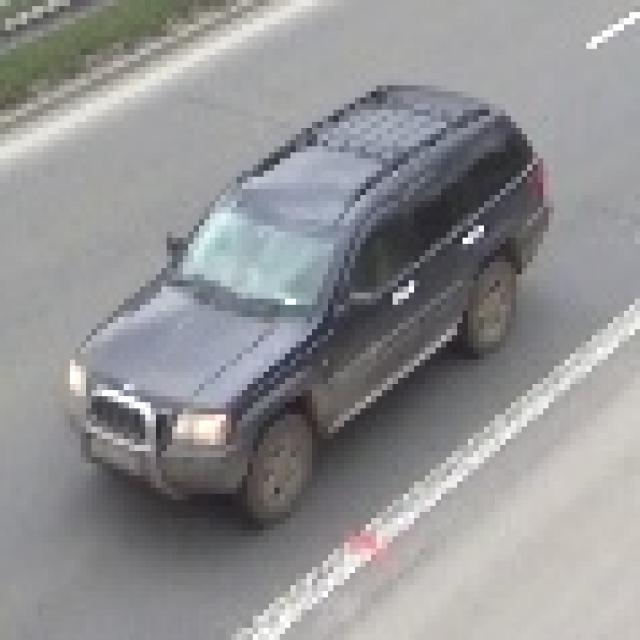SUV: (83, 98, 518, 494)
